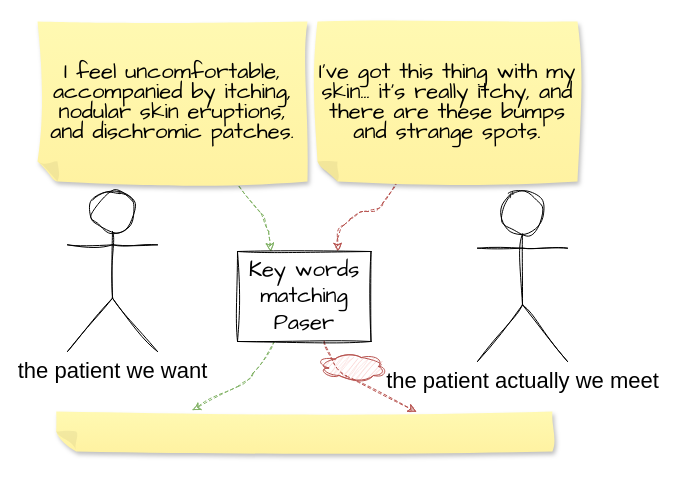
Image size: 676x488. Some labels were removed from this diagram. The shapes that lost their labels are listed below. From the top down, each one's centre as x and y in pixels, then its label:
At point (352, 366): "Boom".
At point (305, 432): "Result: itching, nodal_skin_eruptions, dischromic_patches".
